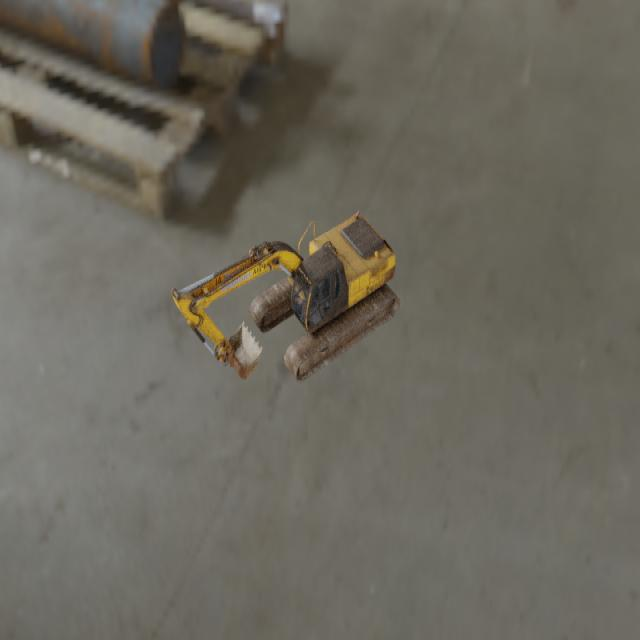excavator: (170, 209, 400, 383)
